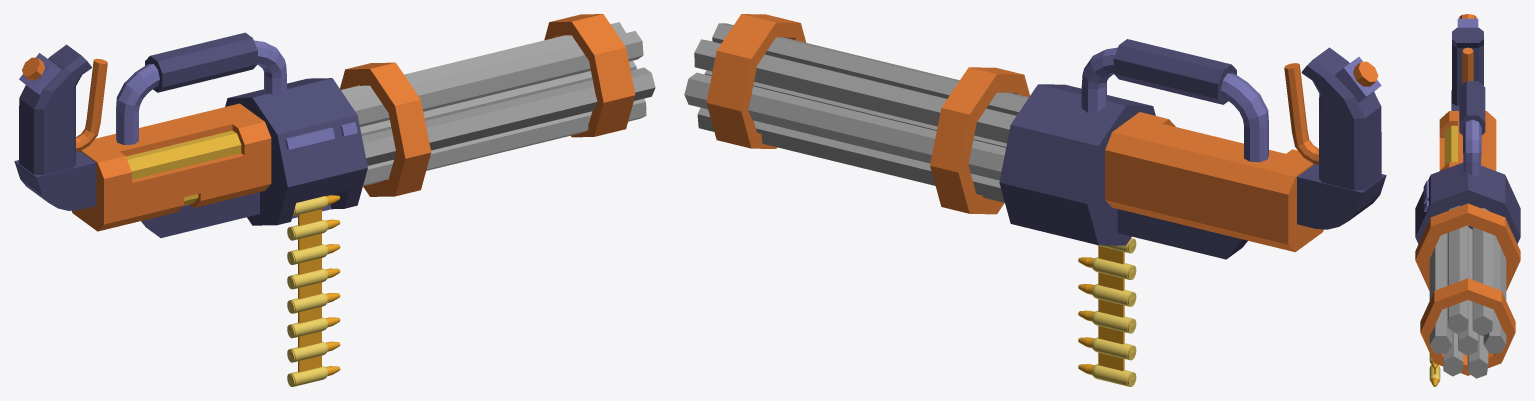
Rendered from MachineGun.fbx.
3 views of the same model, side by side, from view 1: azimuth 30°, elevation 25°; view 2: azimuth 150°, elevation 25°; view 3: azimuth 270°, elevation 25° (orthographic). The views are drawn at different scales.
Parts seen in each view (by area): view 1: Mashine_Gun_01a, Bullet_02a; view 2: Mashine_Gun_01a, Bullet_02a; view 3: Mashine_Gun_01a, Bullet_02a.
Part boxes in pixels (box(x1,y1,x2,y2)): Mashine_Gun_01a: box(14, 14, 655, 237); Bullet_02a: box(287, 195, 340, 386); Mashine_Gun_01a: box(684, 14, 1386, 259); Bullet_02a: box(1078, 238, 1136, 386); Mashine_Gun_01a: box(1415, 14, 1520, 378); Bullet_02a: box(1429, 353, 1440, 386).
Size of the model in its own units: 154 by 89.44 by 31.03.
